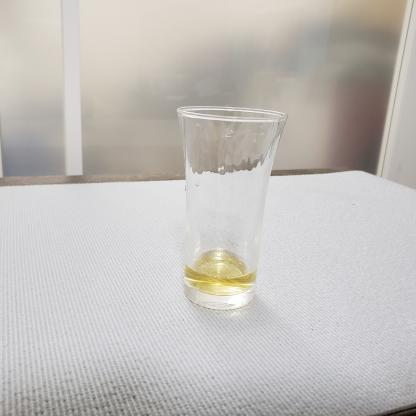glass: (170, 96, 299, 318)
